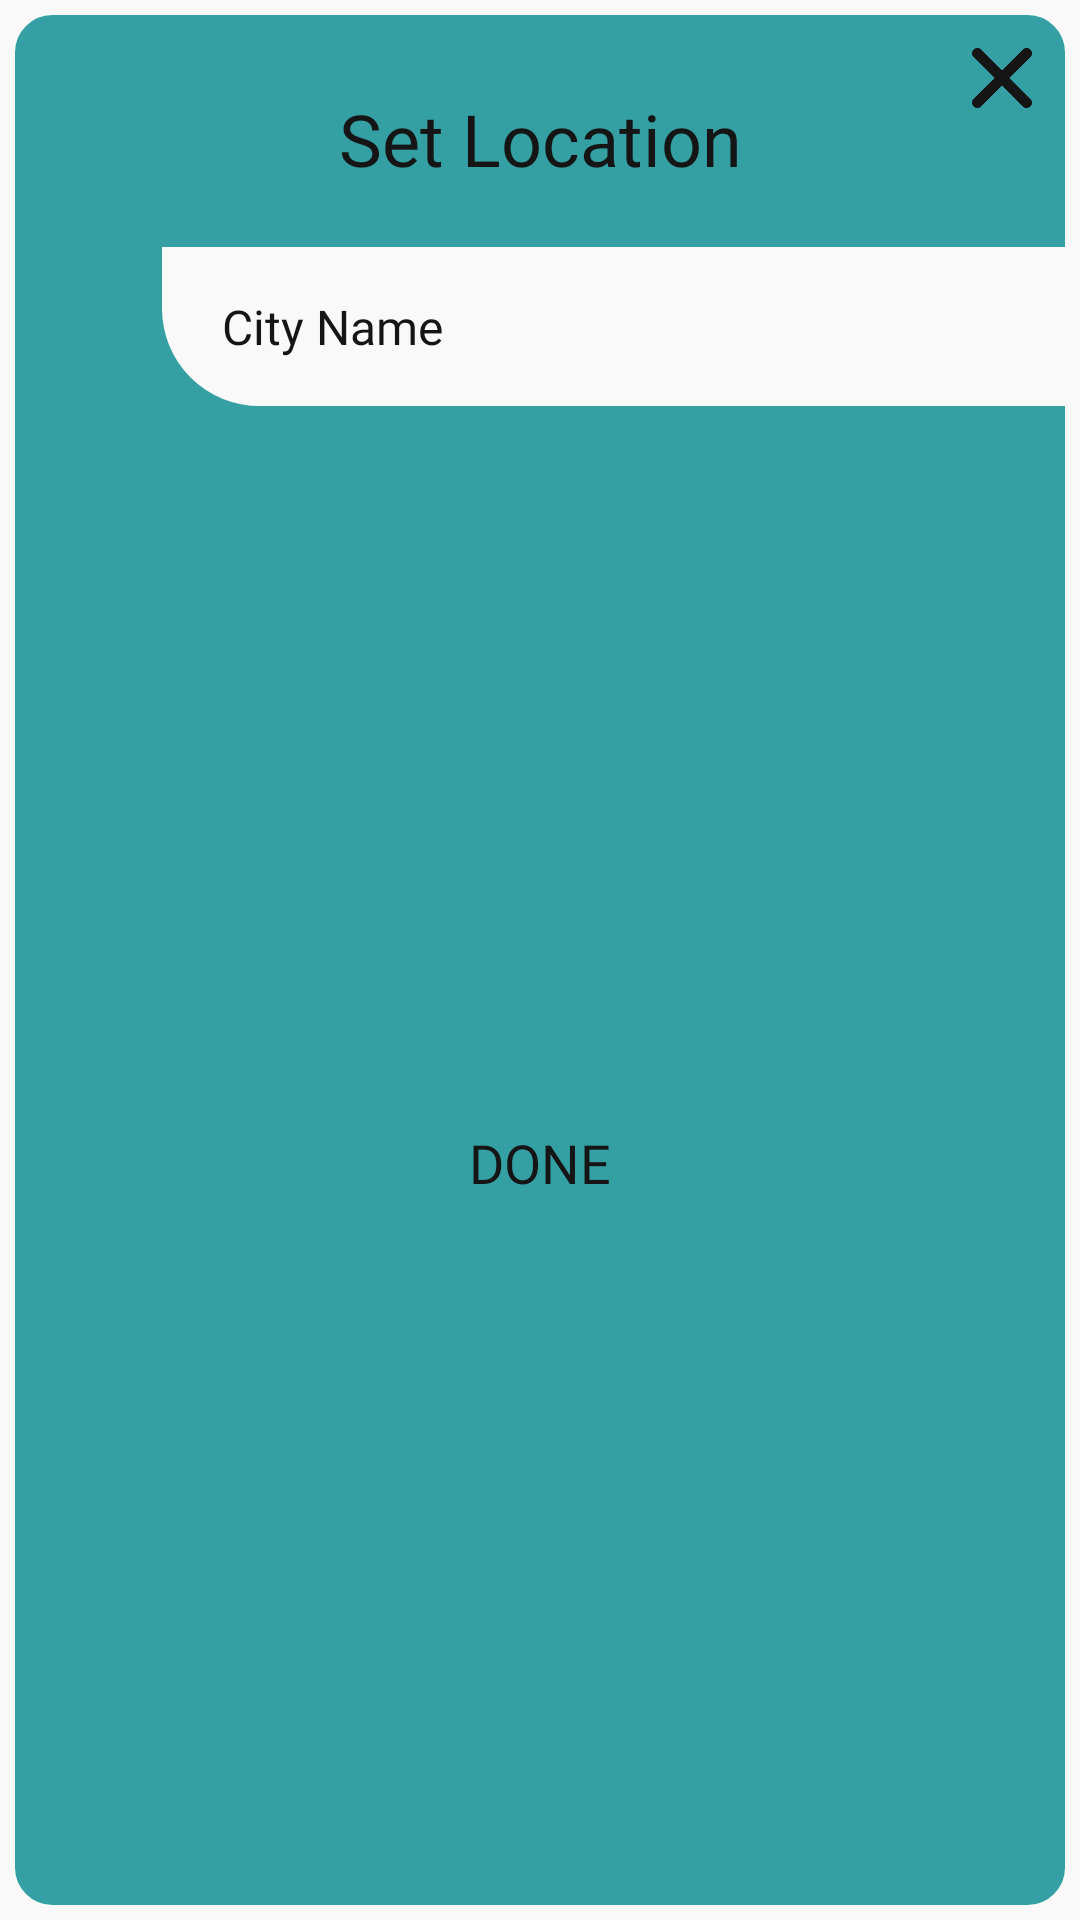

Screen size 1080px x 1920px. Icon name, then its center in pixels as [x,y]:
crossicon: [1002,78]
